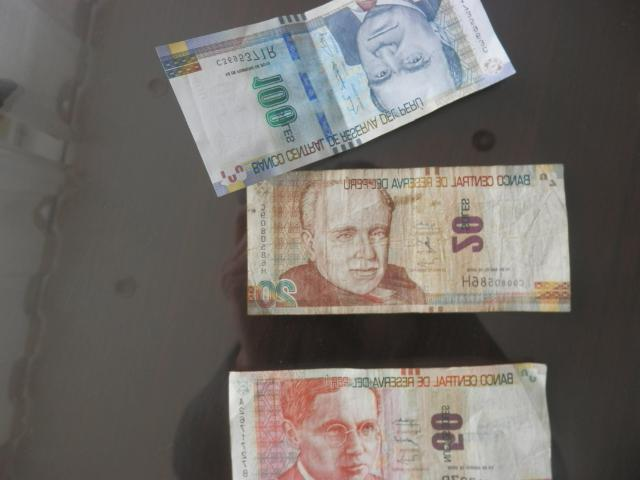B100: (150, 2, 516, 164)
B20: (245, 162, 568, 316)
B50: (229, 362, 551, 478)
